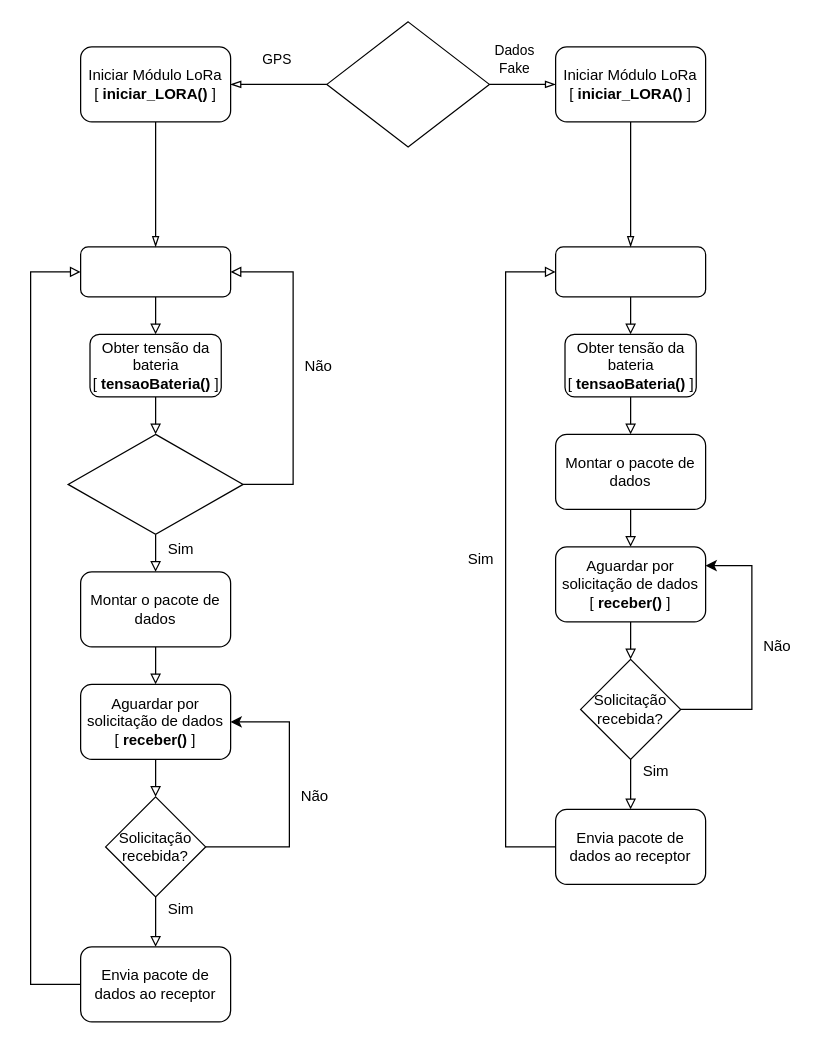
Image size: 813x1044. Some labels were removed from this diagram. The shapes that lost their labels are listed below. From the top down, each one's centre as x and y in pixels, then its label:
point 407,84: Modo de funcionamento
point 155,271: Obter dados GPS [ getGPS() ]
point 630,271: Dados Ficticios [ dadosFake() ]
point 155,483: Dados do GPS recebidos?
